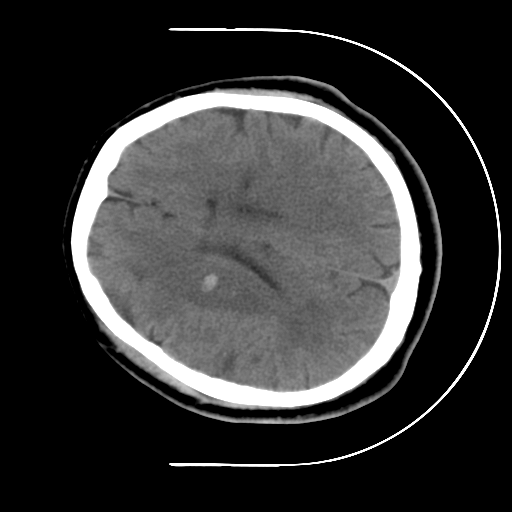a: (180, 255, 275, 324)
